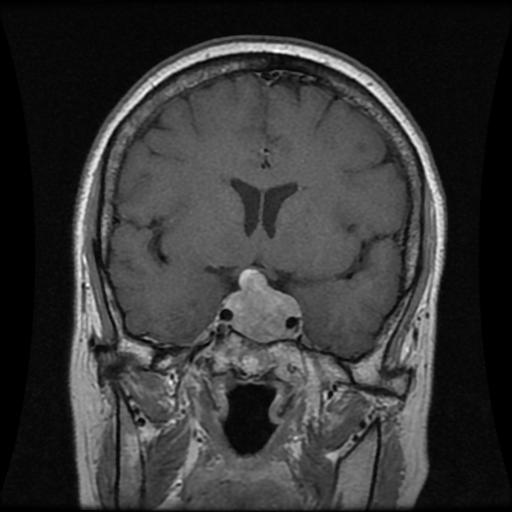Pituirity_tumour: (222, 271, 298, 338)
